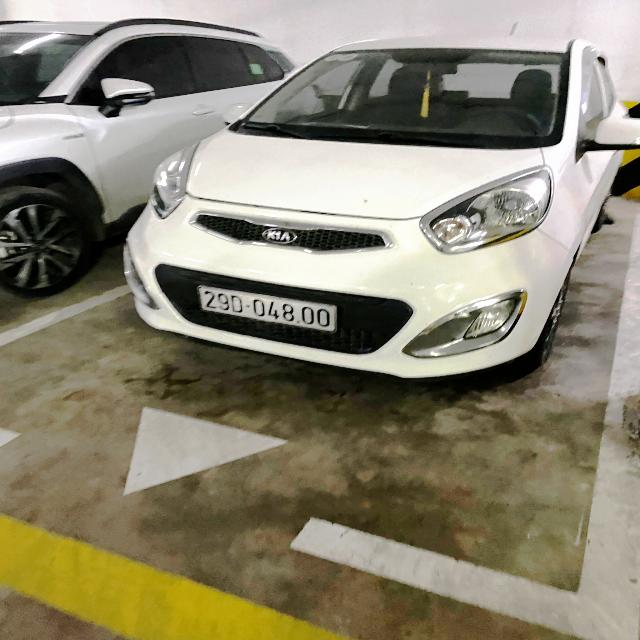license_plate: (196, 287, 340, 335)
